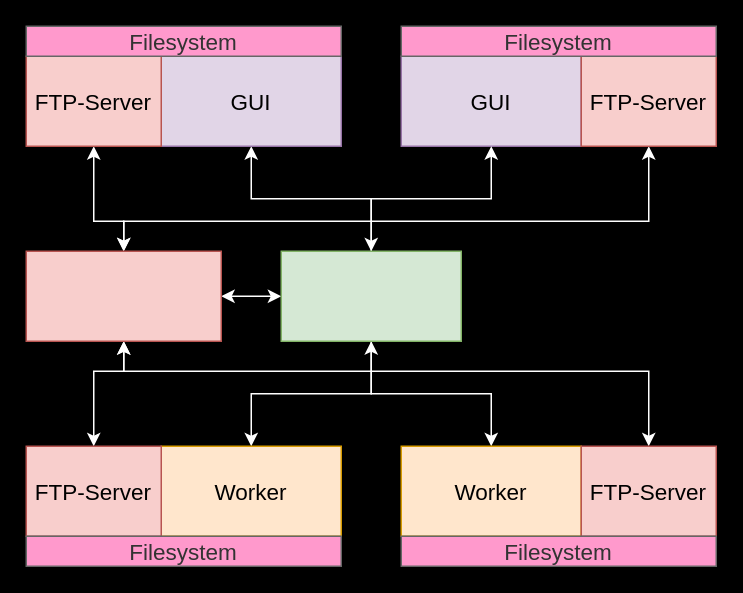
This 743x593 diagram has some shape labels left out. Here are the shapes that lost their labels. From the top down, the centre of each, then its label:
At (123,295): "FTP-Controller".
At (370,295): "Controller".
